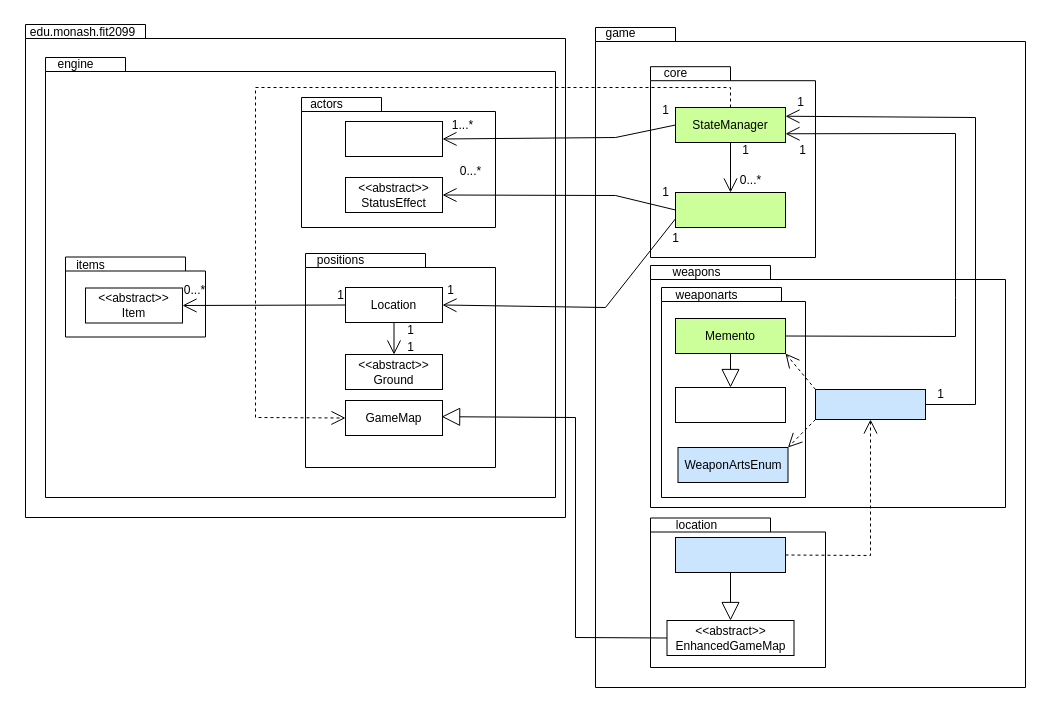
This 1043x705 diagram has some shape labels left out. The shapes that lost their labels are listed below. From the top down, each one's centre as x and y in pixels, then its label:
At [393,138]: "Actor".
At [730,210]: "State".
At [730,404]: "<<abstract>> WeaponArt".
At [870,404]: "<<abstract>> WeaponItem".
At [730,554]: "GravesitePlains".
